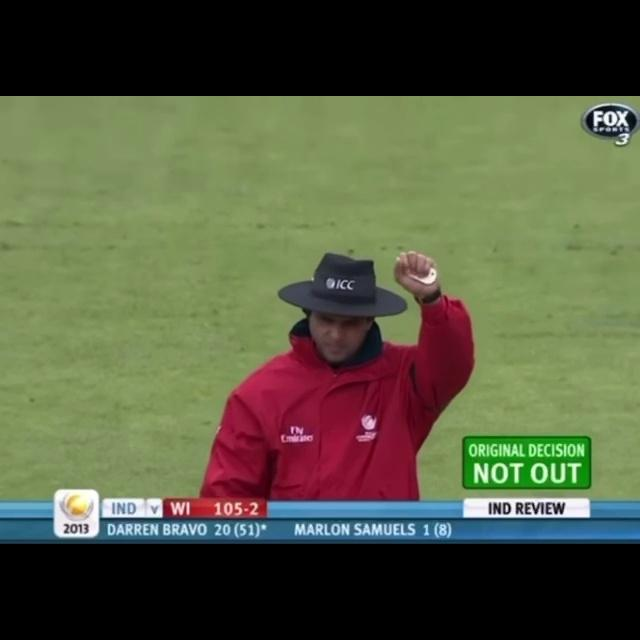umpire: (182, 212, 490, 491)
